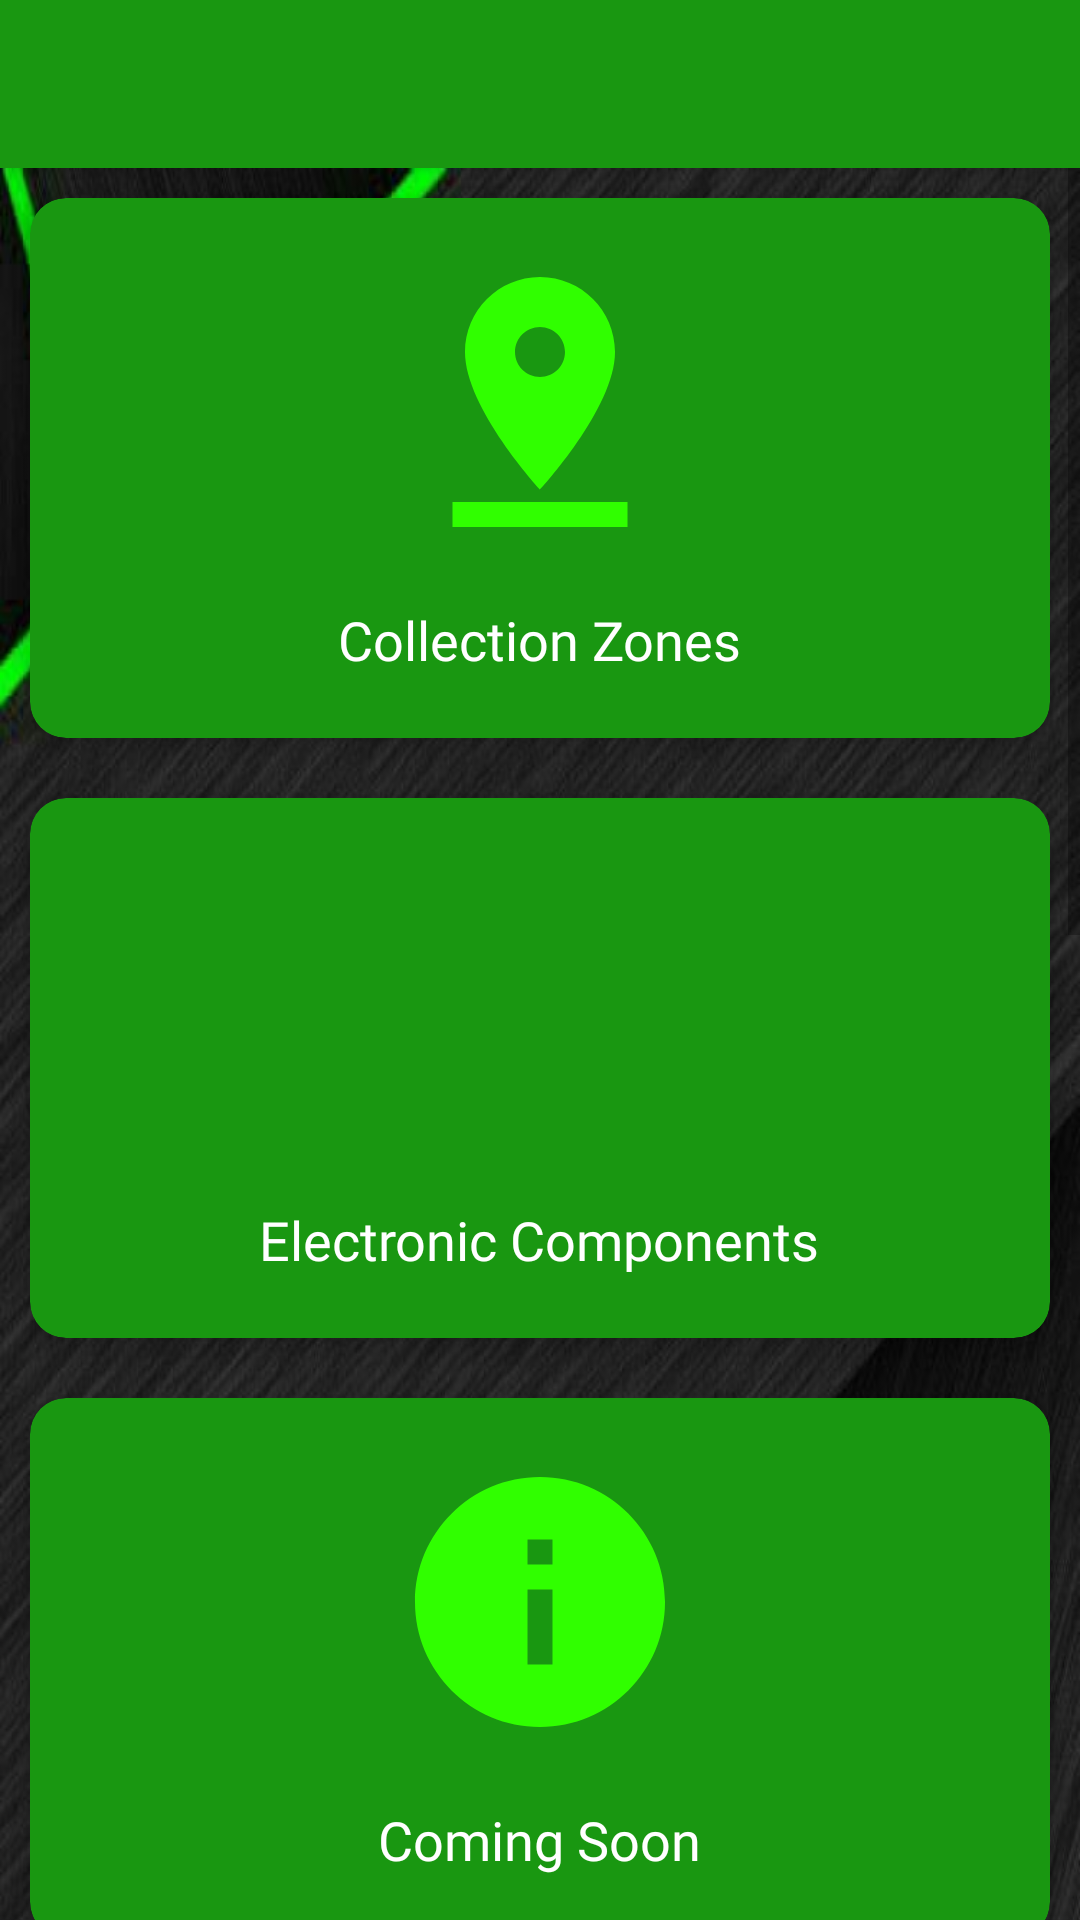

Screen size 1080 × 1920. Icon name, then its box in pixels as (x1, y1, x2, y2):
about: (415, 1477, 665, 1727)
